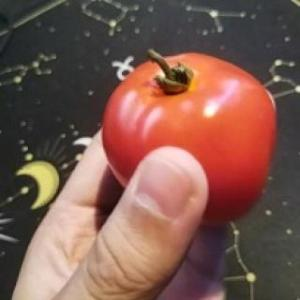tomato: (97, 42, 287, 232)
